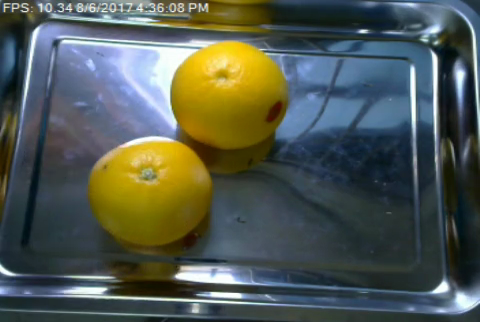Orange: (87, 135, 214, 245), (169, 40, 291, 147)
